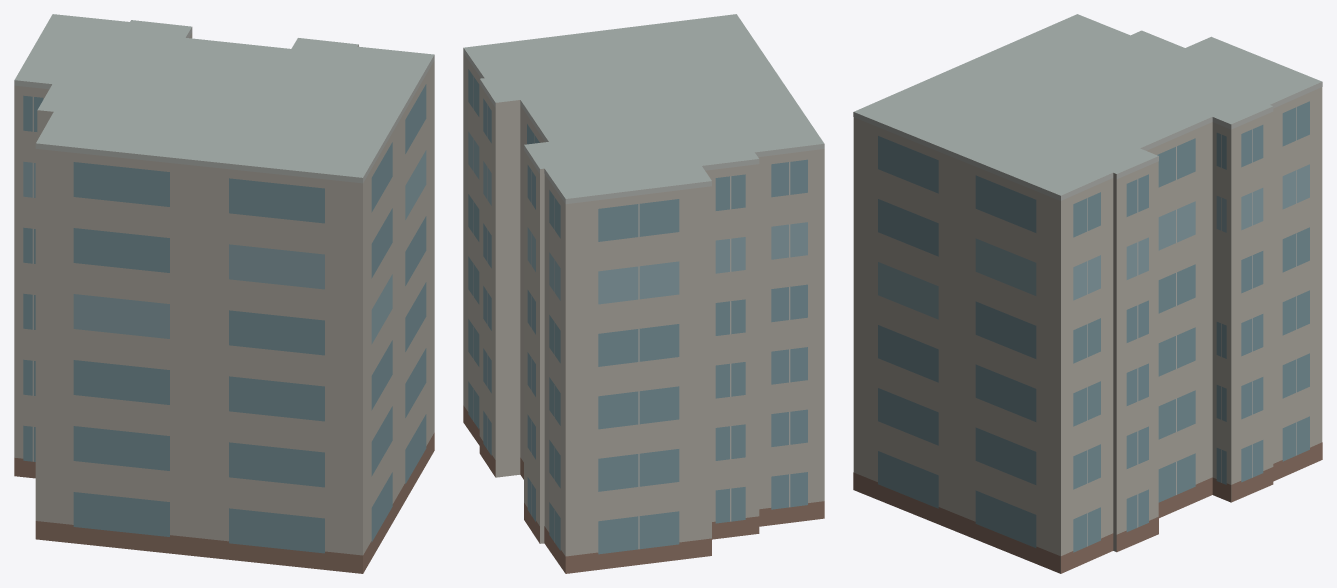
File: survey-upis-33009570.glb
3 views of the same model, side by side, from view 1: azimuth 30°, elevation 25°; view 2: azimuth 150°, elevation 25°; view 3: azimuth 270°, elevation 25° (orthographic). The views are drawn at different scales.
Visible parts, largest first — view 1: survey-upis-33009570.tmp; view 2: survey-upis-33009570.tmp; view 3: survey-upis-33009570.tmp.
Boxes of the visible parts, box(x1,y1,x2,y2) form: survey-upis-33009570.tmp: box(14, 14, 434, 573); survey-upis-33009570.tmp: box(463, 14, 824, 573); survey-upis-33009570.tmp: box(853, 14, 1322, 573).
Bounding box in the file's own units: 18.2 × 17.65 × 19.84.
